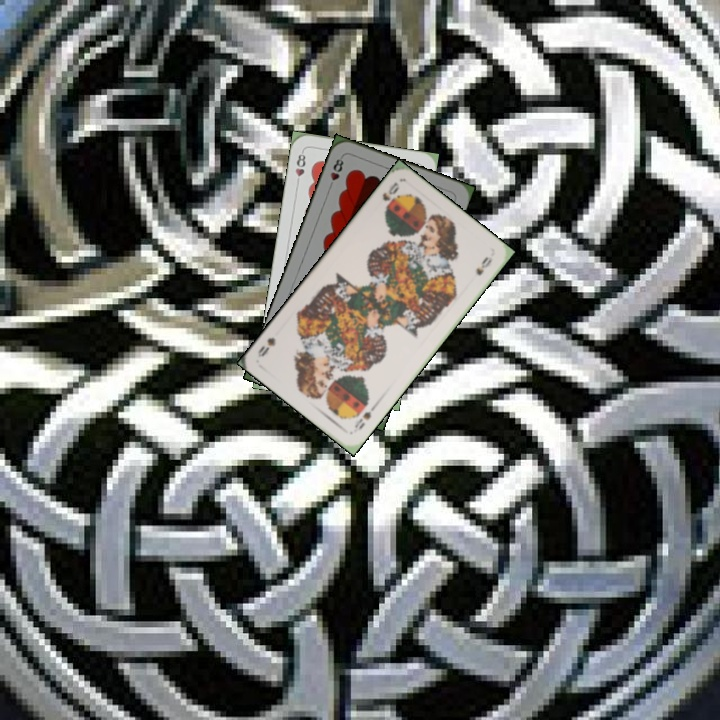H8: (325, 153, 346, 192), (291, 147, 308, 188)
SO: (349, 401, 379, 435), (378, 178, 402, 211)
